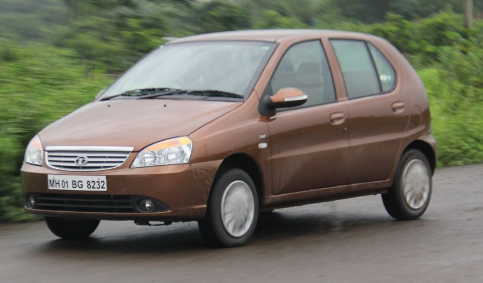car: (16, 25, 443, 252)
